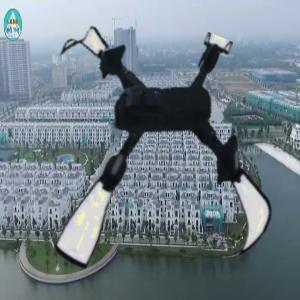drone: (22, 22, 292, 292)
